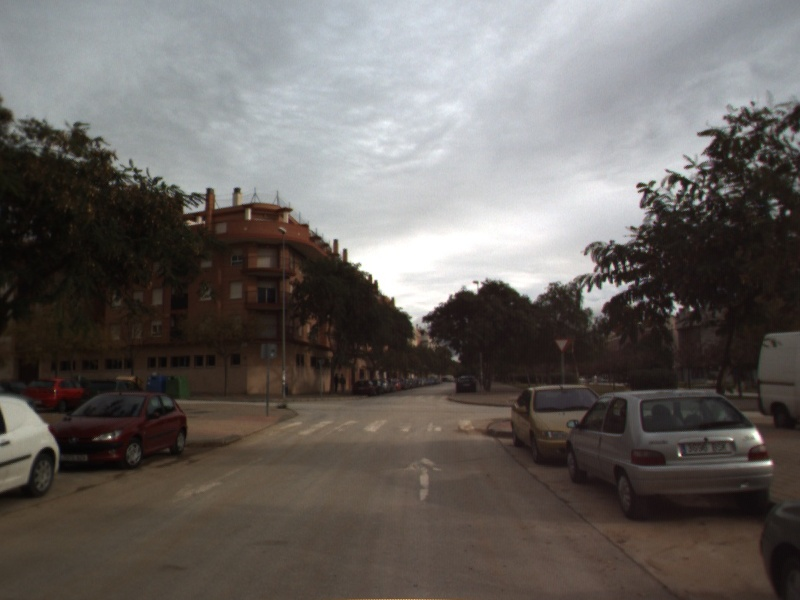STRAIGHT: (401, 454, 445, 503)
